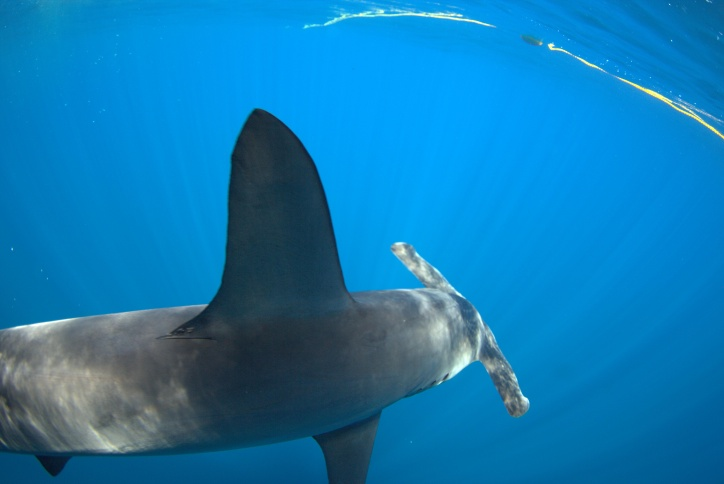Hammer: (5, 85, 633, 484)
